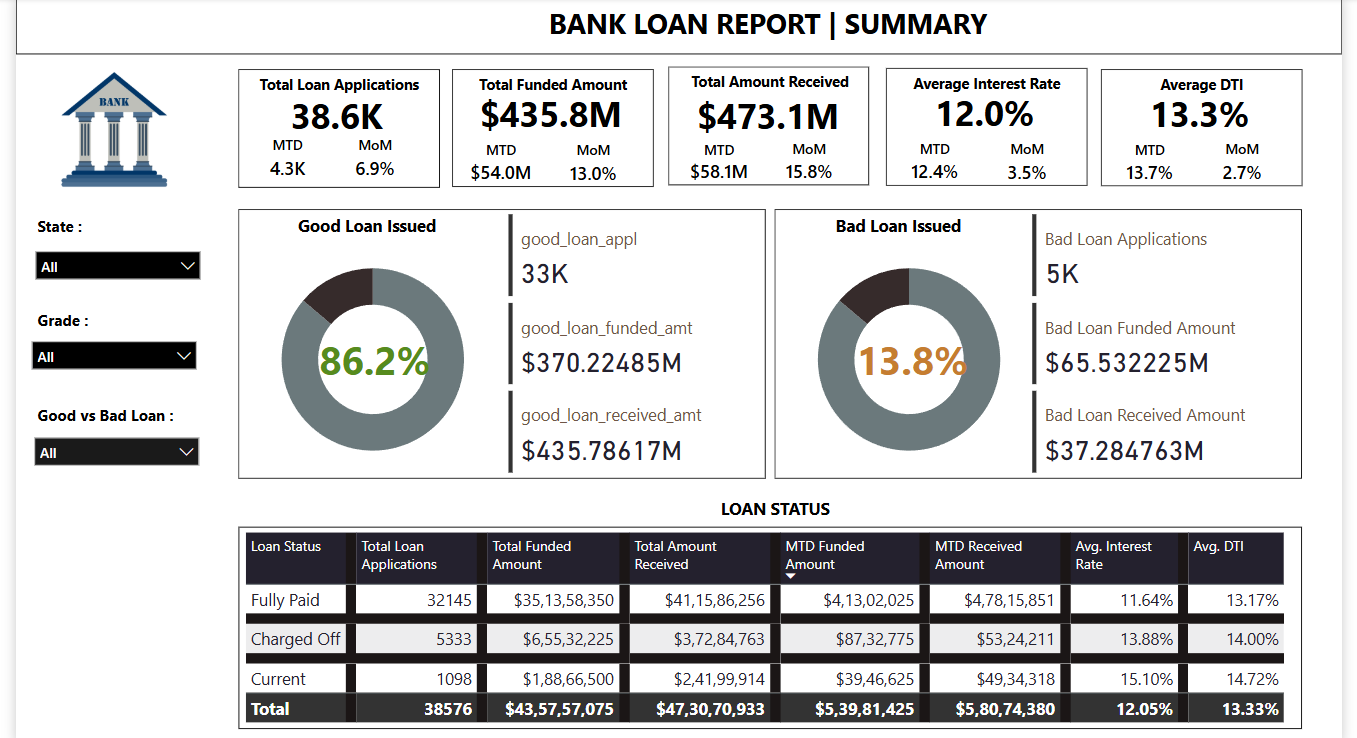

The page's visual inventory and layout, read from the dashboard file:
{"tool":"powerbi","page":{"name":"Summary","canvas":[1280,720],"ordinal":0},"visuals":[{"type":"shape","box":[629.2,66.4,193.8,114.2],"z":0,"group":"g3"},{"type":"shape","box":[839.7,67.5,194.5,114],"z":0,"group":"g4"},{"type":"shape","box":[214.3,68.6,194.3,114.3],"z":0,"group":"g1"},{"type":"shape","box":[421.4,68.6,194.5,114],"z":0,"group":"g2"},{"type":"shape","box":[1047.1,68.6,194.5,113.1],"z":0,"group":"g5"},{"type":"shape","box":[214.3,204.3,508.6,260],"z":0},{"type":"card","fields":{"Values":["table_measures.avg_interest_rate"]},"box":[851.5,82.1,165.9,58.4],"z":1000,"group":"g4"},{"type":"card","fields":{"Values":["table_measures.avg_DTI"]},"box":[1058.9,83.1,165.9,57.9],"z":1000,"group":"g5"},{"type":"card","fields":{"Values":["table_measures.total_loan_appl"]},"box":[247.2,83.2,124.3,61.3],"z":1000,"group":"g1"},{"type":"card","fields":{"Values":["table_measures.total_funded_amt"]},"box":[433.2,83.2,165.9,58.4],"z":1000,"group":"g2"},{"type":"card","fields":{"Values":["table_measures.total_received_amt"]},"box":[643.2,85.3,163.1,55.8],"z":1000,"group":"g3"},{"type":"donutChart","fields":{"Category":["financial_loan.Good vs Band Loan"],"Y":["table_measures.total_loan_appl"]},"box":[220,234.3,250,230],"z":1000},{"type":"shape","box":[0,0,1280,54.3],"z":2000},{"type":"textbox","box":[632.2,67,191,41.6],"z":2000,"group":"g3"},{"type":"textbox","box":[839.7,67.5,194.5,38.9],"z":2000,"group":"g4"},{"type":"textbox","box":[214.3,68.6,194.3,39],"z":2000,"group":"g1"},{"type":"textbox","box":[421.4,68.6,194.5,38.9],"z":2000,"group":"g2"},{"type":"textbox","box":[1047.1,68.6,194.5,38.6],"z":2000,"group":"g5"},{"type":"card","title":"MTD","fields":{"Values":["table_measures.MTD_loan_appl"]},"box":[235.7,132.7,51.4,50.2],"z":3000,"group":"g1"},{"type":"card","title":"MTD","fields":{"Values":["table_measures.MTD_interest_rate"]},"box":[851.5,136.3,70.1,48.6],"z":3000,"group":"g4"},{"type":"card","title":"MTD","fields":{"Values":["table_measures.MTD_avg_DTI"]},"box":[1058.9,136.9,70.1,48.3],"z":3000,"group":"g5"},{"type":"card","title":"MTD","fields":{"Values":["table_measures.MTD_received_amt"]},"box":[643.2,137.1,68.9,46.5],"z":3000,"group":"g3"},{"type":"card","title":"MTD","fields":{"Values":["table_measures.MTD_funded_amt"]},"box":[433.2,137.4,70.1,48.6],"z":3000,"group":"g2"},{"type":"card","title":"MoM","fields":{"Values":["table_measures.MOM_loan_appl"]},"box":[320,132.7,51.4,50.2],"z":4000,"group":"g1"},{"type":"card","title":"MoM","fields":{"Values":["table_measures.MOM_interest_rate"]},"box":[946.6,136.1,57.8,49.7],"z":4000,"group":"g4"},{"type":"card","title":"MoM","fields":{"Values":["table_measures.MOM_avg_DTI"]},"box":[1154,136.7,57.8,49.3],"z":4000,"group":"g5"},{"type":"card","title":"MoM","fields":{"Values":["table_measures.MOM_received_amt"]},"box":[736.7,136.9,56.8,47.5],"z":4000,"group":"g3"},{"type":"card","title":"MoM","fields":{"Values":["table_measures.MOM_funded_amt"]},"box":[528.3,137.2,57.8,49.7],"z":4000,"group":"g2"},{"type":"textbox","box":[15.7,205.1,120.6,38.6],"z":4000},{"type":"textbox","box":[235.7,204.3,207.1,34.3],"z":5000},{"type":"card","fields":{"Values":["table_measures.good_loan_per"]},"box":[287.1,321.4,118.6,57.1],"z":6000},{"type":"textbox","box":[509.2,1.4,447.3,49.5],"z":7000},{"type":"group","id":"g1","title":"Group 1","box":[214.3,68.6,194.3,114.3],"z":8000},{"type":"group","id":"g2","title":"Group 1","box":[421.4,68.6,194.3,118],"z":9000},{"type":"group","id":"g3","title":"Group 1","box":[629.2,66.4,194,118],"z":10000},{"type":"group","id":"g4","title":"Group 1","box":[839.7,67.5,194.5,118.2],"z":11000},{"type":"group","id":"g5","title":"Group 1","box":[1047.1,68.6,194.3,117.1],"z":12000},{"type":"shape","box":[732.9,204.3,508.6,260],"z":13000},{"type":"cardVisual","fields":{"Data":["table_measures.good_loan_appl","table_measures.good_loan_funded_amt","table_measures.good_loan_received_amt"]},"box":[470,204.3,252.9,260],"z":14000},{"type":"donutChart","fields":{"Category":["financial_loan.Good vs Band Loan"],"Y":["table_measures.total_loan_appl"]},"box":[737.1,234.3,250,230],"z":15000},{"type":"card","fields":{"Values":["table_measures.bad_loan_per"]},"box":[805.7,321.4,118.6,57.1],"z":16000},{"type":"textbox","box":[748.6,204.3,207.1,34.3],"z":17000},{"type":"cardVisual","fields":{"Data":["table_measures.bad_loan_appl","table_measures.bad_loan_funded_amt","table_measures.bad_loan_received_amt"]},"box":[975.7,204.3,252.9,260],"z":18000},{"type":"tableEx","fields":{"Values":["financial_loan.loan_status","table_measures.total_loan_appl","table_measures.total_funded_amt","table_measures.total_received_amt","table_measures.MTD_funded_amt","table_measures.MTD_received_amt","table_measures.avg_interest_rate","table_measures.avg_DTI"]},"box":[214.7,510.3,1026.7,195.4],"z":20000},{"type":"textbox","box":[647.9,476.5,170.1,33.8],"z":21000},{"type":"slicer","fields":{"Values":["financial_loan.address_state"]},"box":[8.4,234,179.8,50.7],"z":22000},{"type":"slicer","fields":{"Values":["financial_loan.grade"]},"box":[4.8,320.9,179.8,50.7],"z":23000},{"type":"textbox","box":[15.7,295.6,120.6,38.6],"z":24000},{"type":"image","box":[1.2,48.3,187,156.8],"z":26000},{"type":"slicer","fields":{"Values":["financial_loan.Good vs Band Loan"]},"box":[7.2,413.8,179.8,50.7],"z":27000},{"type":"textbox","box":[15.7,387.3,162.9,38.6],"z":28000}]}

Visuals, with their boxes on the page's 1280x720 design canvas (x1, y1, x2, y2). These are canvas units, not pixel positions in the 1357x738 screenshot, which may show the page scaled, cropped or inside an application window:
shape: {"x1": 629, "y1": 66, "x2": 823, "y2": 181}
shape: {"x1": 840, "y1": 68, "x2": 1034, "y2": 182}
shape: {"x1": 214, "y1": 69, "x2": 409, "y2": 183}
shape: {"x1": 421, "y1": 69, "x2": 616, "y2": 183}
shape: {"x1": 1047, "y1": 69, "x2": 1242, "y2": 182}
shape: {"x1": 214, "y1": 204, "x2": 723, "y2": 464}
card - table_measures.avg_interest_rate: {"x1": 852, "y1": 82, "x2": 1017, "y2": 140}
card - table_measures.avg_DTI: {"x1": 1059, "y1": 83, "x2": 1225, "y2": 141}
card - table_measures.total_loan_appl: {"x1": 247, "y1": 83, "x2": 372, "y2": 144}
card - table_measures.total_funded_amt: {"x1": 433, "y1": 83, "x2": 599, "y2": 142}
card - table_measures.total_received_amt: {"x1": 643, "y1": 85, "x2": 806, "y2": 141}
donutChart - financial_loan.Good vs Band Loan x table_measures.total_loan_appl: {"x1": 220, "y1": 234, "x2": 470, "y2": 464}
shape: {"x1": 0, "y1": 0, "x2": 1280, "y2": 54}
textbox: {"x1": 632, "y1": 67, "x2": 823, "y2": 109}
textbox: {"x1": 840, "y1": 68, "x2": 1034, "y2": 106}
textbox: {"x1": 214, "y1": 69, "x2": 409, "y2": 108}
textbox: {"x1": 421, "y1": 69, "x2": 616, "y2": 108}
textbox: {"x1": 1047, "y1": 69, "x2": 1242, "y2": 107}
"MTD" card: {"x1": 236, "y1": 133, "x2": 287, "y2": 183}
"MTD" card: {"x1": 852, "y1": 136, "x2": 922, "y2": 185}
"MTD" card: {"x1": 1059, "y1": 137, "x2": 1129, "y2": 185}
"MTD" card: {"x1": 643, "y1": 137, "x2": 712, "y2": 184}
"MTD" card: {"x1": 433, "y1": 137, "x2": 503, "y2": 186}
"MoM" card: {"x1": 320, "y1": 133, "x2": 371, "y2": 183}
"MoM" card: {"x1": 947, "y1": 136, "x2": 1004, "y2": 186}
"MoM" card: {"x1": 1154, "y1": 137, "x2": 1212, "y2": 186}
"MoM" card: {"x1": 737, "y1": 137, "x2": 794, "y2": 184}
"MoM" card: {"x1": 528, "y1": 137, "x2": 586, "y2": 187}
textbox: {"x1": 16, "y1": 205, "x2": 136, "y2": 244}
textbox: {"x1": 236, "y1": 204, "x2": 443, "y2": 239}
card - table_measures.good_loan_per: {"x1": 287, "y1": 321, "x2": 406, "y2": 378}
textbox: {"x1": 509, "y1": 1, "x2": 956, "y2": 51}
"Group 1" group: {"x1": 214, "y1": 69, "x2": 409, "y2": 183}
"Group 1" group: {"x1": 421, "y1": 69, "x2": 616, "y2": 187}
"Group 1" group: {"x1": 629, "y1": 66, "x2": 823, "y2": 184}
"Group 1" group: {"x1": 840, "y1": 68, "x2": 1034, "y2": 186}
"Group 1" group: {"x1": 1047, "y1": 69, "x2": 1241, "y2": 186}
shape: {"x1": 733, "y1": 204, "x2": 1242, "y2": 464}
cardVisual - table_measures.good_loan_appl x table_measures.good_loan_funded_amt: {"x1": 470, "y1": 204, "x2": 723, "y2": 464}
donutChart - financial_loan.Good vs Band Loan x table_measures.total_loan_appl: {"x1": 737, "y1": 234, "x2": 987, "y2": 464}
card - table_measures.bad_loan_per: {"x1": 806, "y1": 321, "x2": 924, "y2": 378}
textbox: {"x1": 749, "y1": 204, "x2": 956, "y2": 239}
cardVisual - table_measures.bad_loan_appl x table_measures.bad_loan_funded_amt: {"x1": 976, "y1": 204, "x2": 1229, "y2": 464}
tableEx - financial_loan.loan_status x table_measures.total_loan_appl: {"x1": 215, "y1": 510, "x2": 1241, "y2": 706}
textbox: {"x1": 648, "y1": 476, "x2": 818, "y2": 510}
slicer - financial_loan.address_state: {"x1": 8, "y1": 234, "x2": 188, "y2": 285}
slicer - financial_loan.grade: {"x1": 5, "y1": 321, "x2": 185, "y2": 372}
textbox: {"x1": 16, "y1": 296, "x2": 136, "y2": 334}
image: {"x1": 1, "y1": 48, "x2": 188, "y2": 205}
slicer - financial_loan.Good vs Band Loan: {"x1": 7, "y1": 414, "x2": 187, "y2": 464}
textbox: {"x1": 16, "y1": 387, "x2": 179, "y2": 426}
